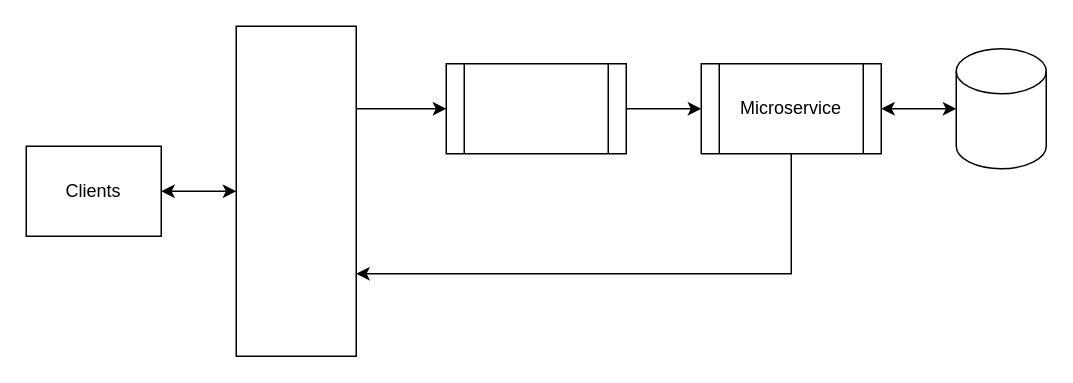
The diagram is 1073 pixels wide and 383 high, and some of its shapes have lost their labels. Here are the shapes that lost their labels. From the top down, the centre of each, then its label:
At [535,108]: "Event Store".
At [295,190]: "Gateway".
